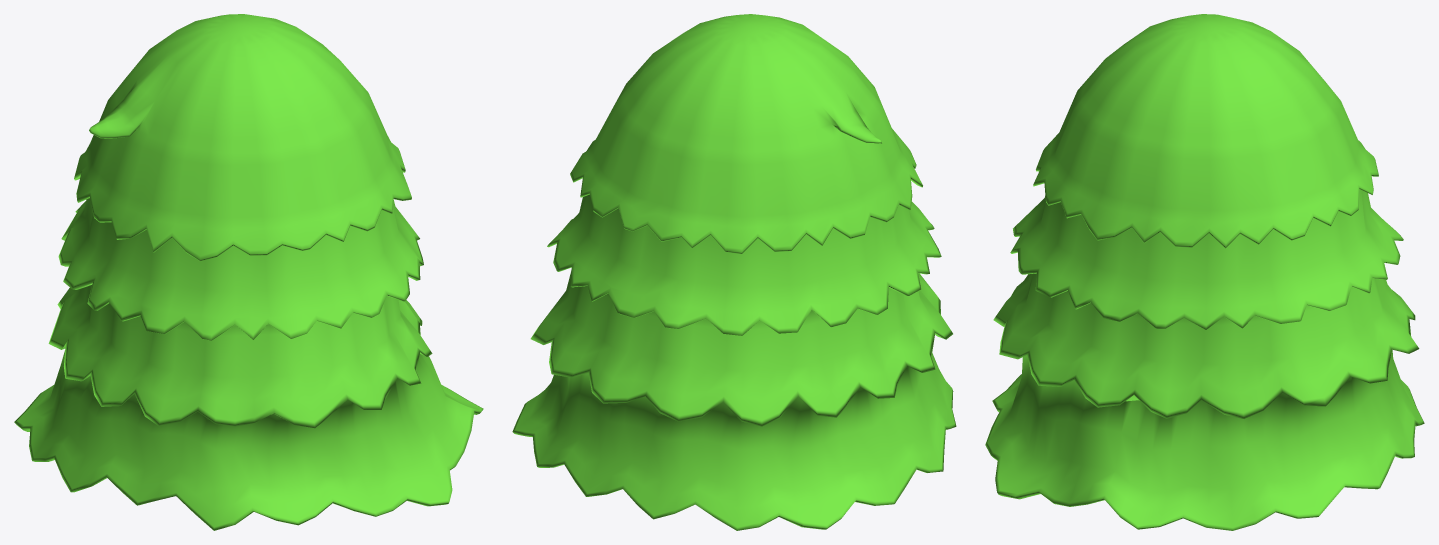
Rendered from sm_leaves3.fbx.
The picture shows the model from 3 angles, left to right: view 1: azimuth 30°, elevation 25°; view 2: azimuth 150°, elevation 25°; view 3: azimuth 270°, elevation 25°; orthographic projection.
Parts seen in each view (by area): view 1: bouquetFeuillesDetail1; view 2: bouquetFeuillesDetail1; view 3: bouquetFeuillesDetail1.
Part boxes in pixels (x1,y1,x2,y2): bouquetFeuillesDetail1: (14,14,483,530); bouquetFeuillesDetail1: (512,14,956,530); bouquetFeuillesDetail1: (985,14,1424,530).
Bounding box in the file's own units: 535 × 561 × 528.
